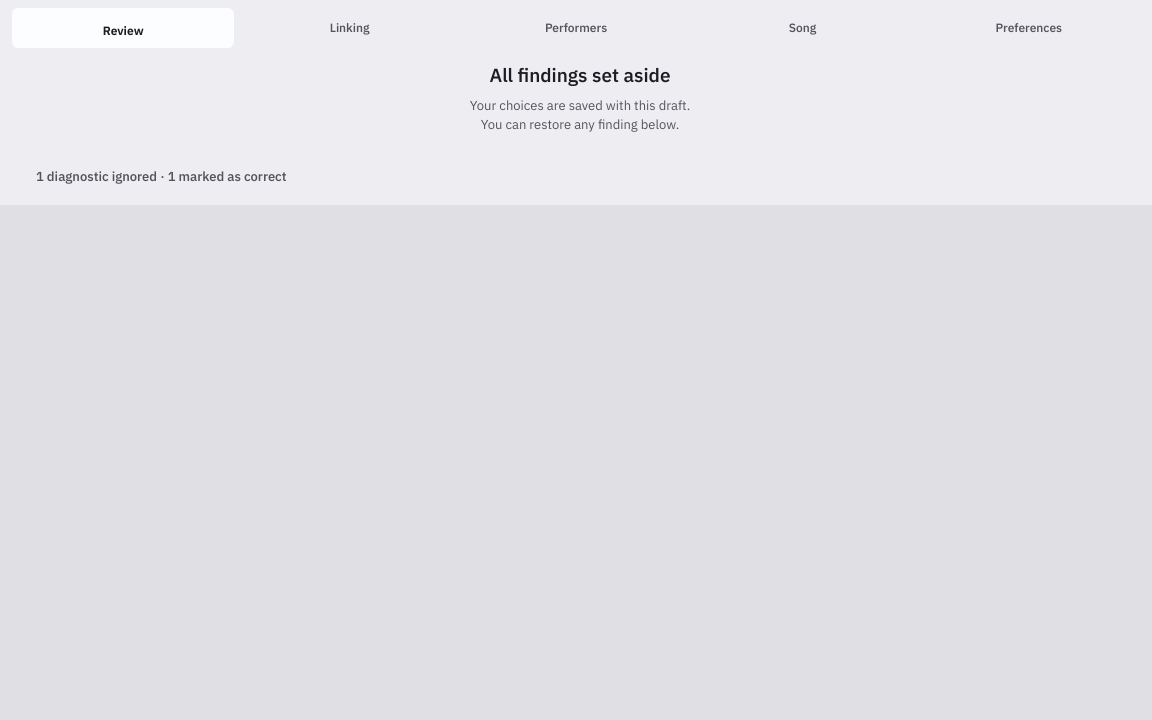
Scenario: RightPanel › counts accepted occurrences apart from ignored ones, and restores either
Click the button "1 diagnostic ignored · 1 marked as correct" at (161, 176), box [28,159,1132,195]
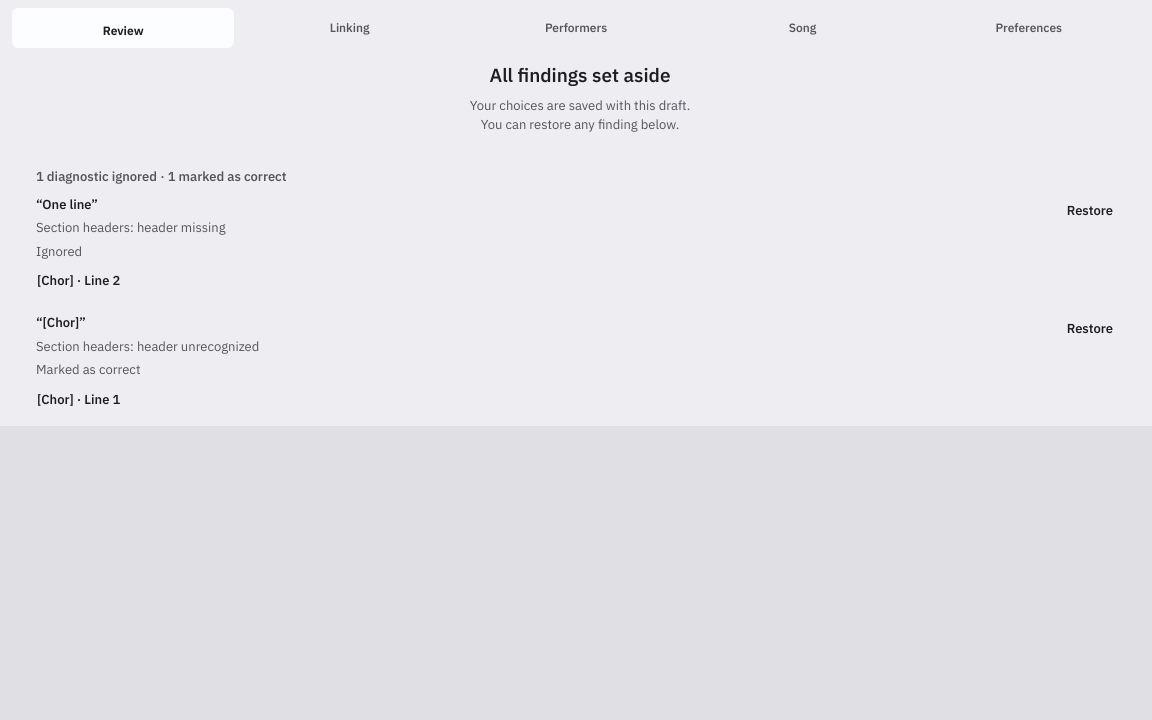
Click the button "Restore" in the row of "“[Chor]”" at (1090, 329), box [1056,313,1124,345]
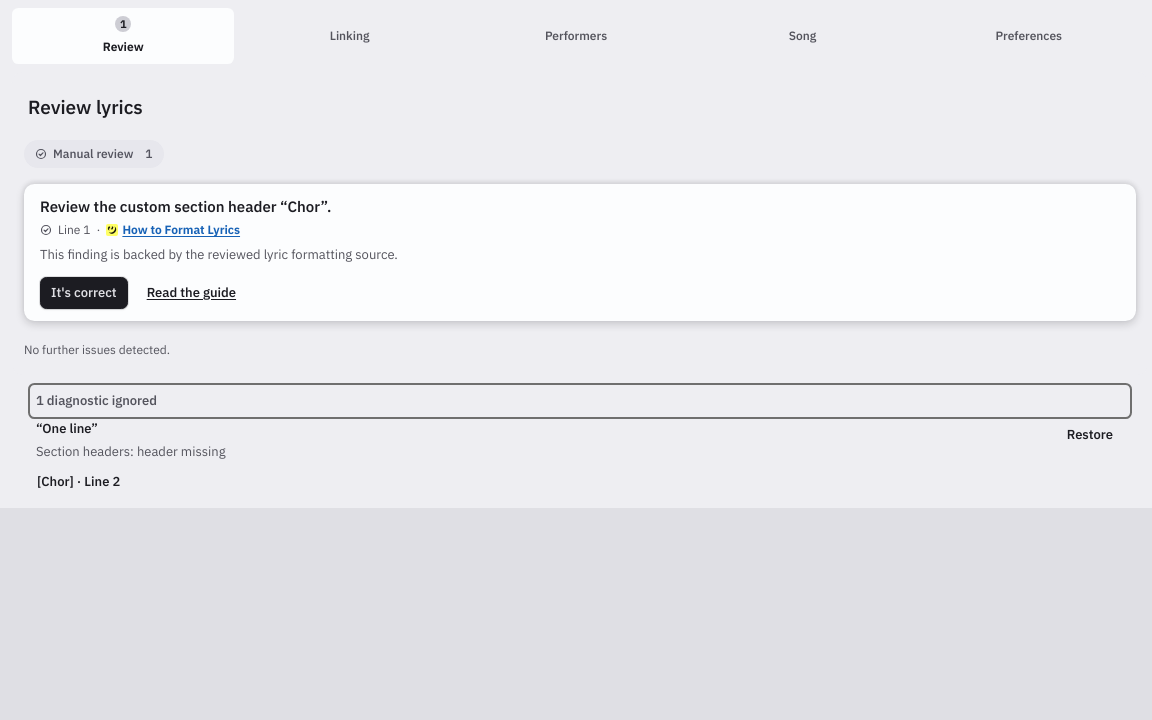
Check: the button "1 diagnostic ignored" is shown, box [28,383,1132,419]
Check: the text "Review the custom section header “Chor”." is shown, box [40,197,332,216]
